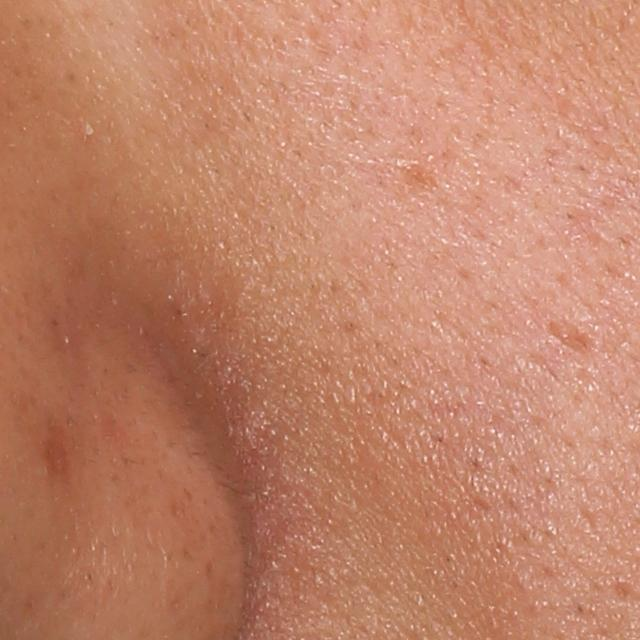atrophic_scar: (474, 348, 569, 467), (541, 315, 603, 355), (611, 582, 635, 608)
melasma: (389, 160, 445, 203)
